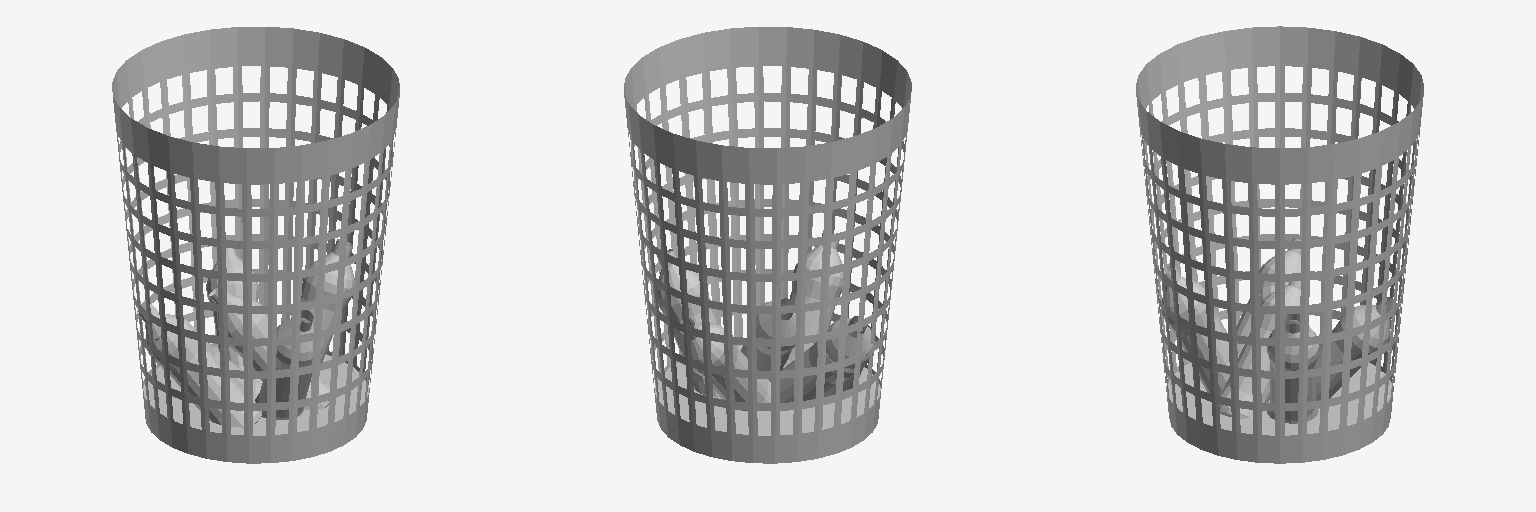
The model's file is DustbinWithCan_000050.obj.
3 renders of one model, left to right at view 1: azimuth 30°, elevation 25°; view 2: azimuth 150°, elevation 25°; view 3: azimuth 270°, elevation 25°, orthographic.
Parts seen in each view (by area): view 1: Cylinder, Plane.005, Plane.001, Plane.004, Plane.003, Plane.002; view 2: Cylinder, Plane.002, Plane.001, Plane.003, Plane.004, Plane.006, Plane.005; view 3: Cylinder, Plane.001, Plane.004, Plane.003, Plane.002, Plane.005.
Boxes of the visible parts, box(x1,y1,x2,y2) form: Cylinder: box(112, 27, 399, 463); Plane.005: box(137, 302, 261, 427); Plane.001: box(255, 310, 322, 419); Plane.004: box(209, 287, 329, 409); Plane.003: box(291, 239, 354, 362); Plane.002: box(206, 248, 262, 382); Cylinder: box(624, 27, 911, 463); Plane.002: box(680, 318, 770, 410); Plane.001: box(783, 233, 842, 367); Plane.003: box(657, 249, 720, 397); Plane.004: box(741, 298, 795, 370); Plane.006: box(768, 325, 871, 402); Plane.005: box(824, 316, 875, 396); Cylinder: box(1136, 26, 1423, 463); Plane.001: box(1161, 266, 1238, 393); Plane.004: box(1219, 281, 1300, 418); Plane.003: box(1267, 314, 1319, 423); Plane.002: box(1316, 297, 1396, 400); Plane.005: box(1237, 238, 1300, 354).
Size of the model in its own units: 2.6 by 3.35 by 2.6.